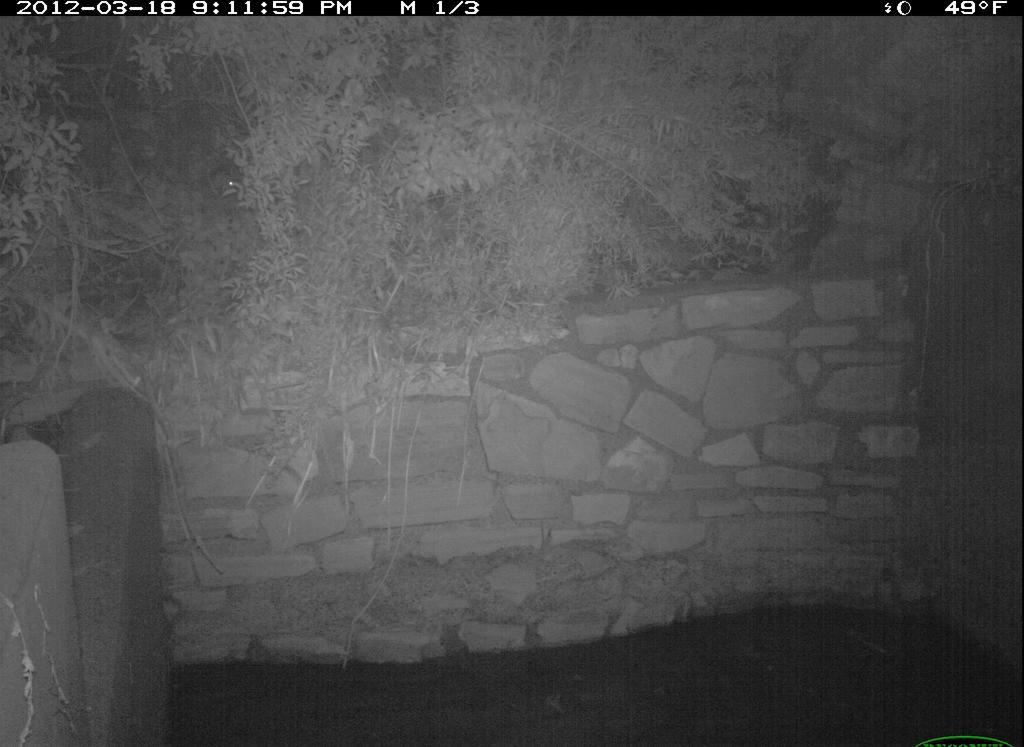rodent: (202, 167, 241, 201)
